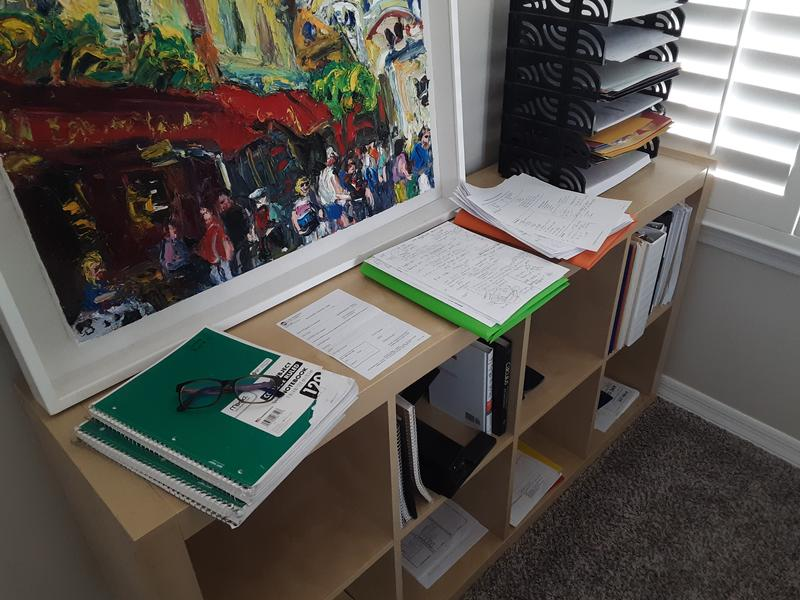glasses: (173, 374, 287, 412)
